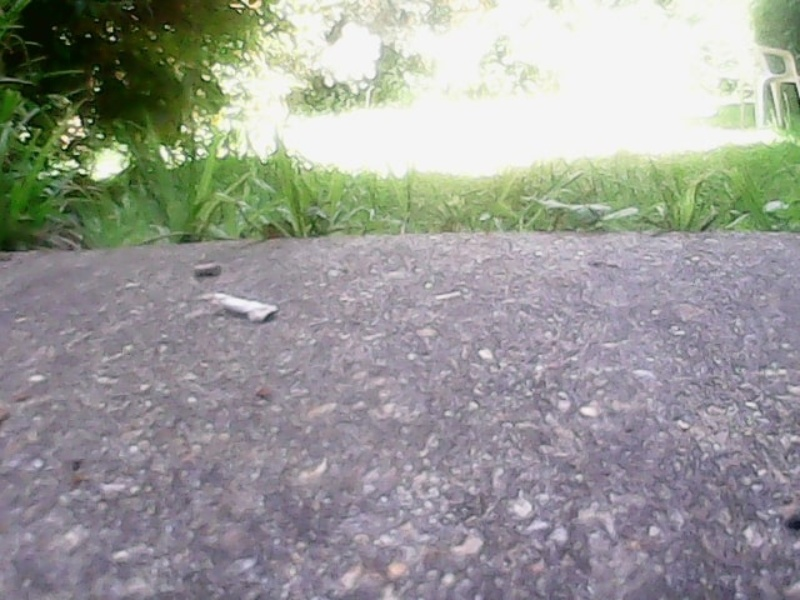cig: (206, 288, 278, 328), (188, 261, 221, 279)
